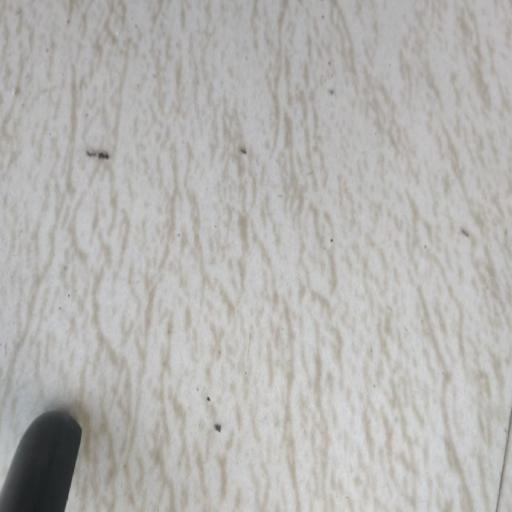Ant-Traffic: (454, 217, 483, 273), (233, 133, 253, 208), (99, 137, 116, 186), (81, 141, 101, 180)
